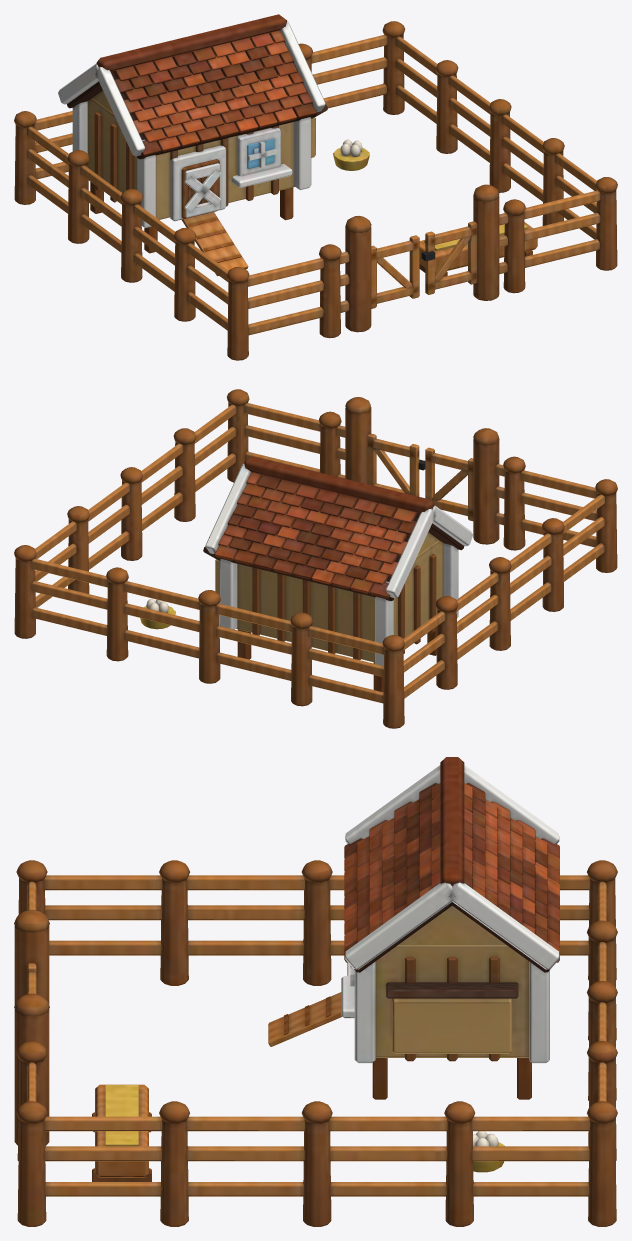
File: turkey_run.glb
3 renders of one model, top to bottom at view 1: azimuth 30°, elevation 25°; view 2: azimuth 150°, elevation 25°; view 3: azimuth 270°, elevation 25°, orthographic. The views are drawn at different scales.
Parts seen in each view (by area): view 1: turkey_run, gate1, gate0; view 2: turkey_run, gate1, gate0; view 3: turkey_run.
Boxes of the visible parts, box(x1,y1,x2,y2) form: turkey_run: box(14, 14, 617, 360); gate1: box(421, 221, 477, 294); gate0: box(371, 235, 419, 308); turkey_run: box(14, 389, 617, 728); gate1: box(367, 433, 425, 496); gate0: box(425, 447, 473, 521); turkey_run: box(14, 757, 617, 1226).
Bounding box in the file's own units: 2 × 0.8813 × 2.01.
Materials: 1 (1 with a texture image).
